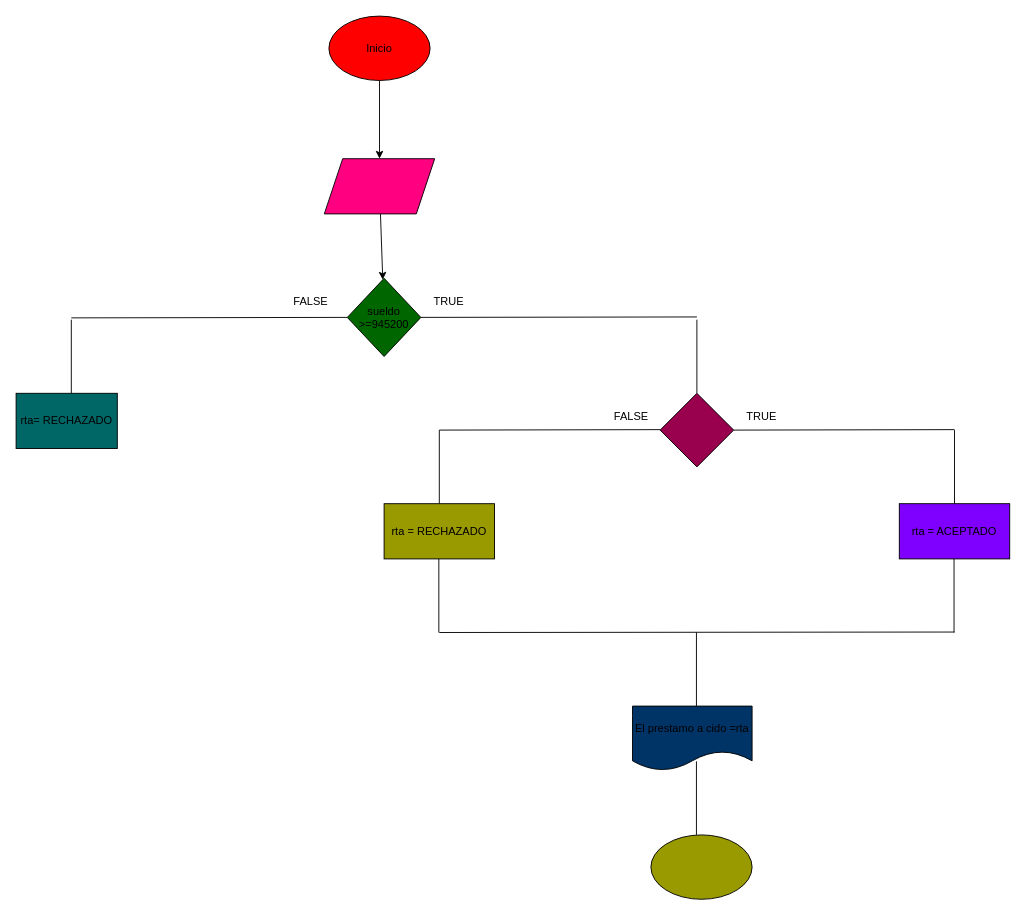
Some shapes in this 1026 by 915 pixel diagram are drawn without their labels. Each missing label, with the centre of its shape:
Deuda ==No: the point at 696,429
FIN: the point at 701,866
sueldo,deuda: the point at 379,186
